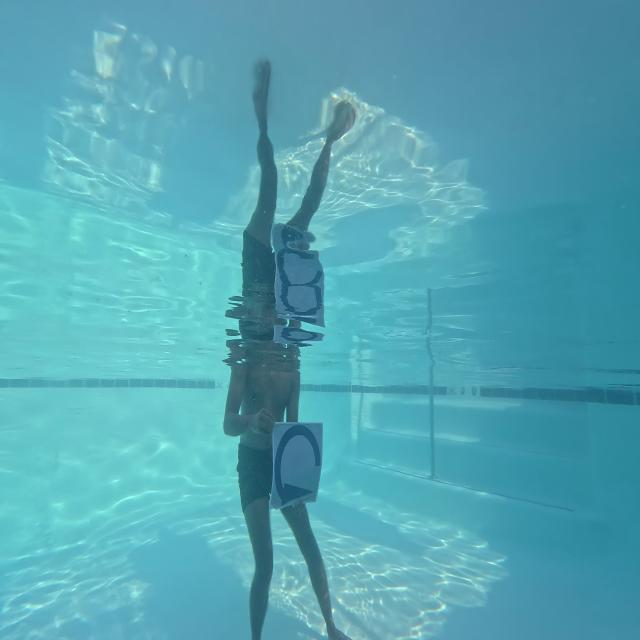blue_side: (271, 416, 325, 513)
